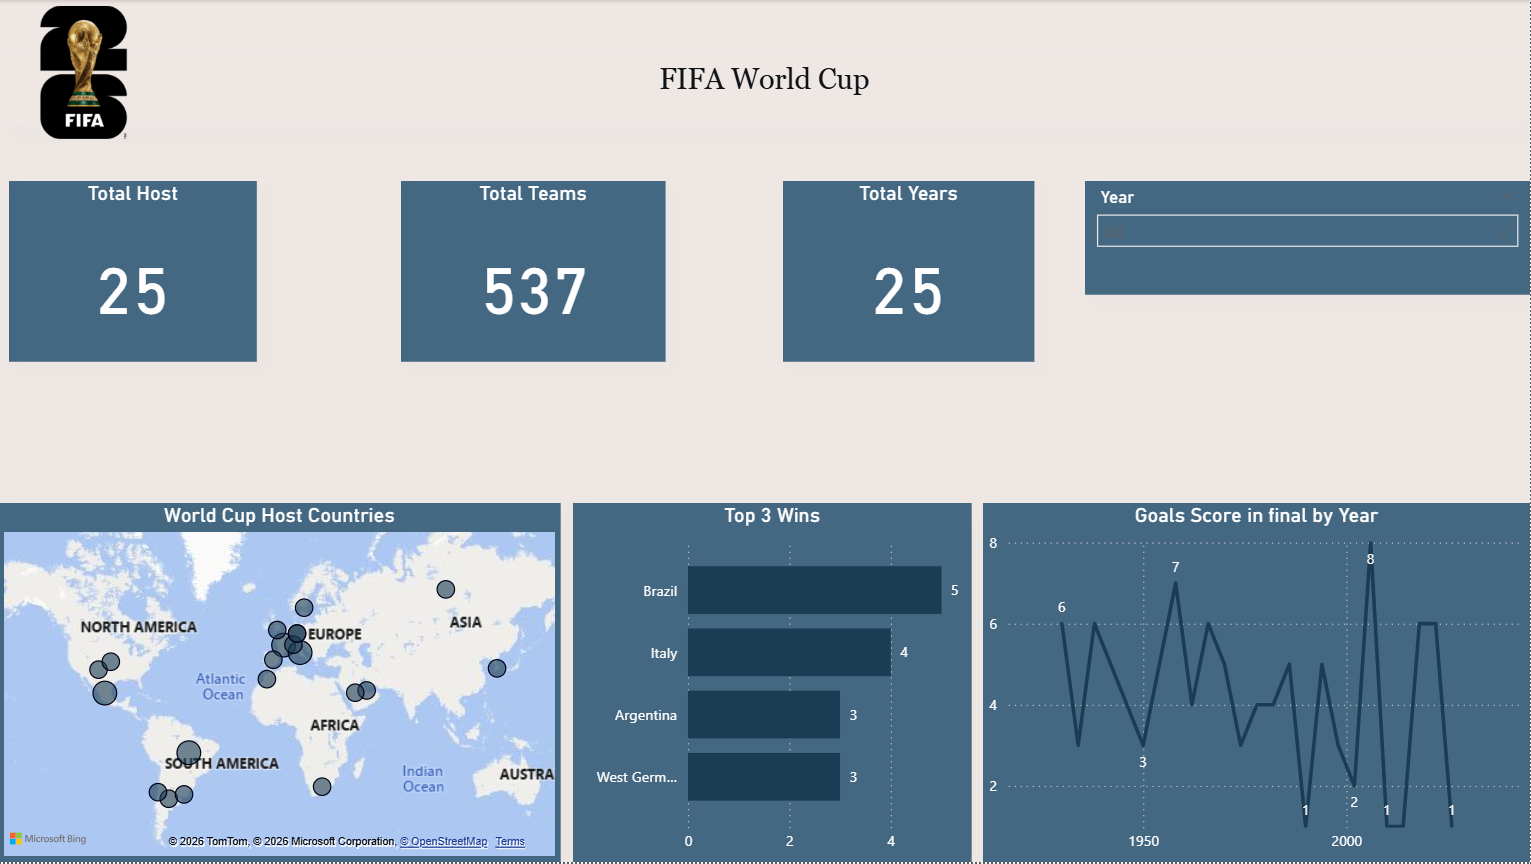

This screenshot's page, from the dashboard's own definition file:
{"tool":"powerbi","page":{"name":"Page 1","canvas":[1280,720],"ordinal":0},"visuals":[{"type":"textbox","box":[0,42.8,1280,64.2],"z":0},{"type":"image","box":[0,0,143,120.6],"z":1000},{"type":"card","title":"Total Host","fields":{"Values":["CountNonNull(Table 3.Host)"]},"box":[9.5,150.9,207,150.9],"z":2000},{"type":"card","title":"Total Teams","fields":{"Values":["Sum(Table 3.Teams)"]},"box":[336.4,150.9,220.8,150.9],"z":3000},{"type":"card","title":"Total Years","fields":{"Values":["CountNonNull(Table 3.Year)"]},"box":[655.5,150.9,209.6,150.9],"z":4000},{"type":"map","title":"World Cup Host Countries","fields":{"Category":["Table 3.Host"],"Size":["CountNonNull(Table 3.Host)"]},"box":[0,420.1,470.1,300.2],"z":5000},{"type":"barChart","title":"Top 3 Wins","fields":{"Category":["Table 3.Final _Champions"],"Y":["CountNonNull(Table 3.Final _Champions)"]},"box":[480.4,420.1,332.9,300.2],"z":6000},{"type":"lineChart","title":" Goals Score in final by Year","fields":{"Category":["Table 3.Year"],"Y":["Sum(Table 3.Goals Score in final)"]},"box":[822.9,420.1,457.1,300.2],"z":7000},{"type":"slicer","fields":{"Values":["Table 3.Year"]},"box":[908.2,150.9,371.8,94.9],"z":8000}]}

Visuals, with their boxes in screenshot pixels (x1, y1, x2, y2), scaled from the page's 1280x720 canvas onto the 1531x864 screenshot:
textbox: box=[0, 51, 1530, 128]
image: box=[0, 0, 171, 145]
"Total Host" card: box=[11, 181, 259, 362]
"Total Teams" card: box=[402, 181, 666, 362]
"Total Years" card: box=[784, 181, 1035, 362]
"World Cup Host Countries" map: box=[0, 504, 562, 863]
"Top 3 Wins" barChart: box=[575, 504, 973, 863]
" Goals Score in final by Year" lineChart: box=[984, 504, 1530, 863]
slicer - Table 3.Year: box=[1086, 181, 1530, 295]
